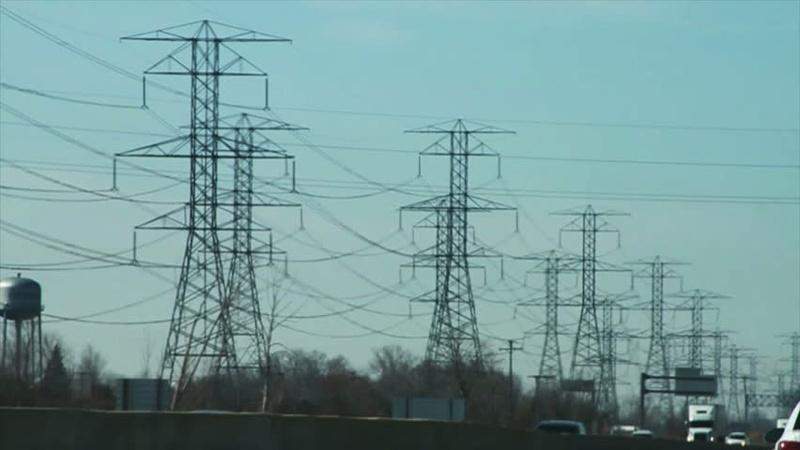power_tower: (118, 12, 288, 402), (401, 100, 517, 358), (549, 198, 630, 382)
